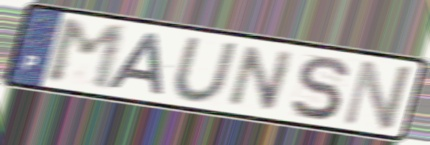A: (105, 32, 167, 98)
M: (44, 17, 129, 93)
N: (339, 56, 416, 132), (223, 43, 299, 113)
S: (288, 53, 351, 122)
U: (170, 35, 241, 106)
